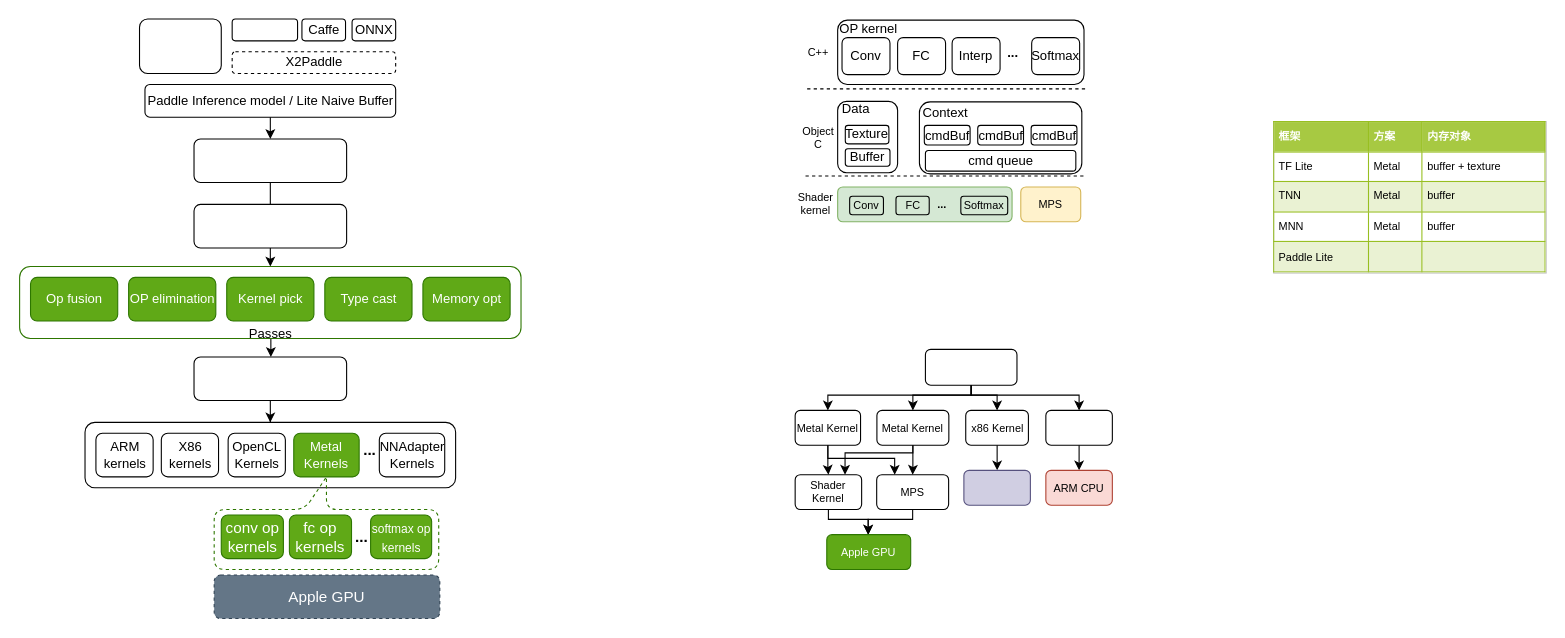
This 1565x638 diagram has some shape labels left out. Here are the shapes that lost their labels. From the top down, the box of each, then its label:
(138, 18, 221, 74): Paddle
(231, 18, 298, 41): Tensorflow
(193, 138, 347, 183): Program desc
(193, 203, 347, 248): SSAGraph
(193, 356, 347, 401): Optimized SSAGraph
(924, 348, 1017, 385): OP
(1045, 409, 1112, 445): ARM Kernel
(963, 469, 1030, 505): x86 CPU
